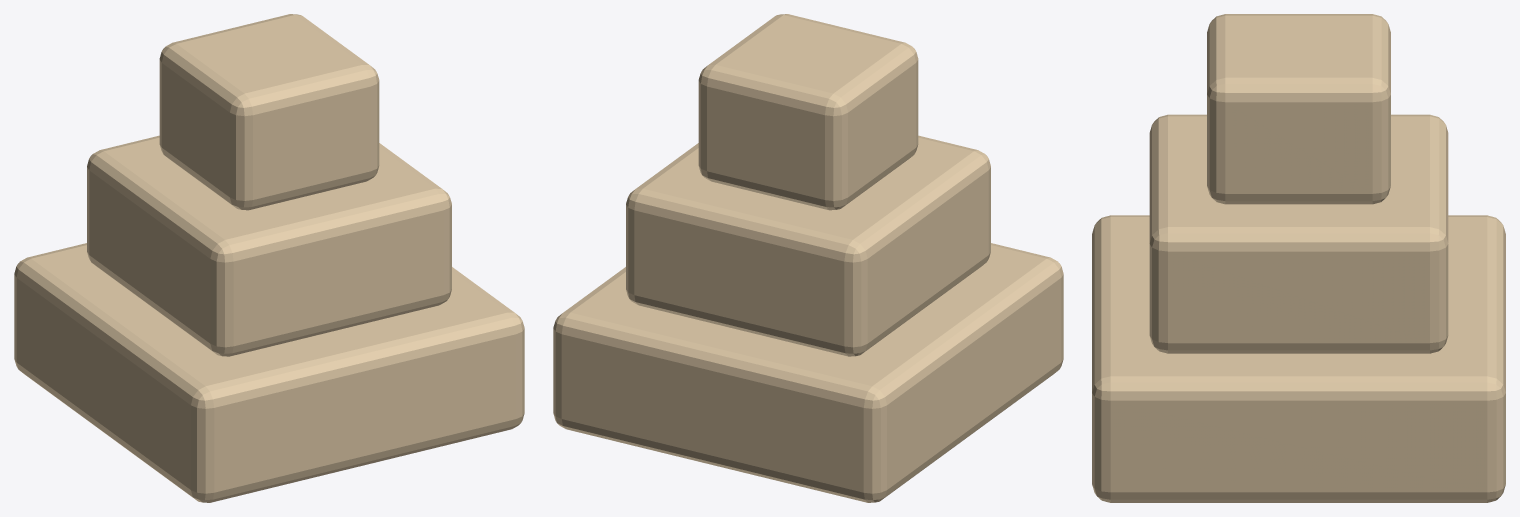
Rendered from ziggurat.glb.
3 renders of one model, left to right at view 1: azimuth 30°, elevation 25°; view 2: azimuth 150°, elevation 25°; view 3: azimuth 270°, elevation 25°, orthographic. The views are drawn at different scales.
Visible parts, largest first — view 1: ziggurat.001; view 2: ziggurat.001; view 3: ziggurat.001.
Part boxes in pixels (x1,y1,x2,y2): ziggurat.001: (14, 14, 524, 502); ziggurat.001: (553, 14, 1063, 502); ziggurat.001: (1092, 14, 1505, 502).
Bounding box in the file's own units: 0.7 × 0.7 × 0.7.
